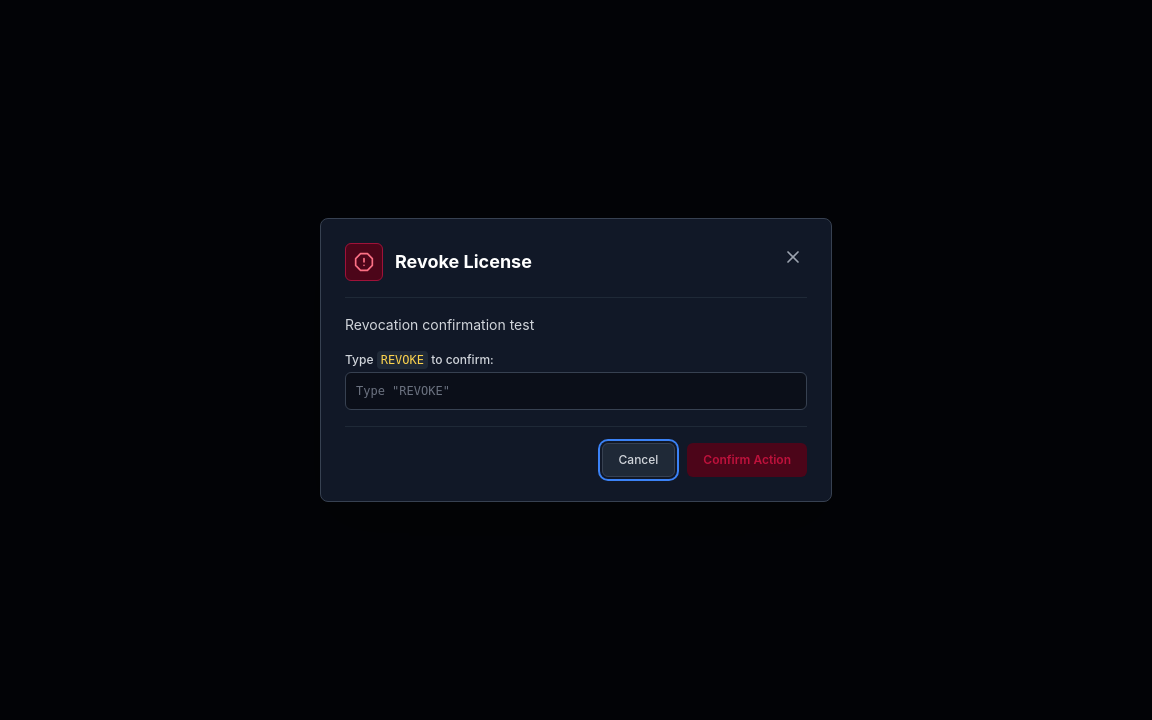
Test case: ConfirmationDialog Security & Accessibility Primitive › 2. should enforce exact confirmation phrase match before enabling submit button
Expected: the button "Confirm Action" is disabled, left=687, top=443, right=807, bottom=477
Type "wrong" into the field with placeholder "Type \"REVOKE\"" at (576, 391), box left=345, top=372, right=807, bottom=410
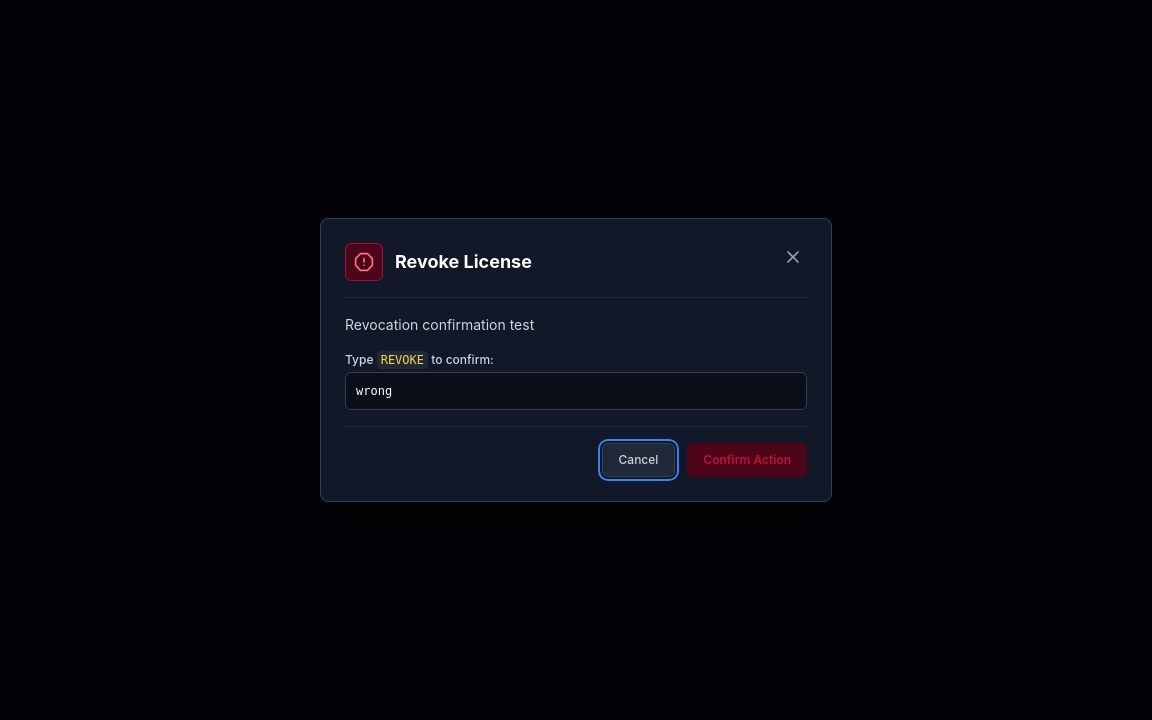
Expected: the button "Confirm Action" is disabled, left=687, top=443, right=807, bottom=477
Replace the text in the field with placeholder "Type \"REVOKE\"" with "REVOKE" at (576, 391), box left=345, top=372, right=807, bottom=410
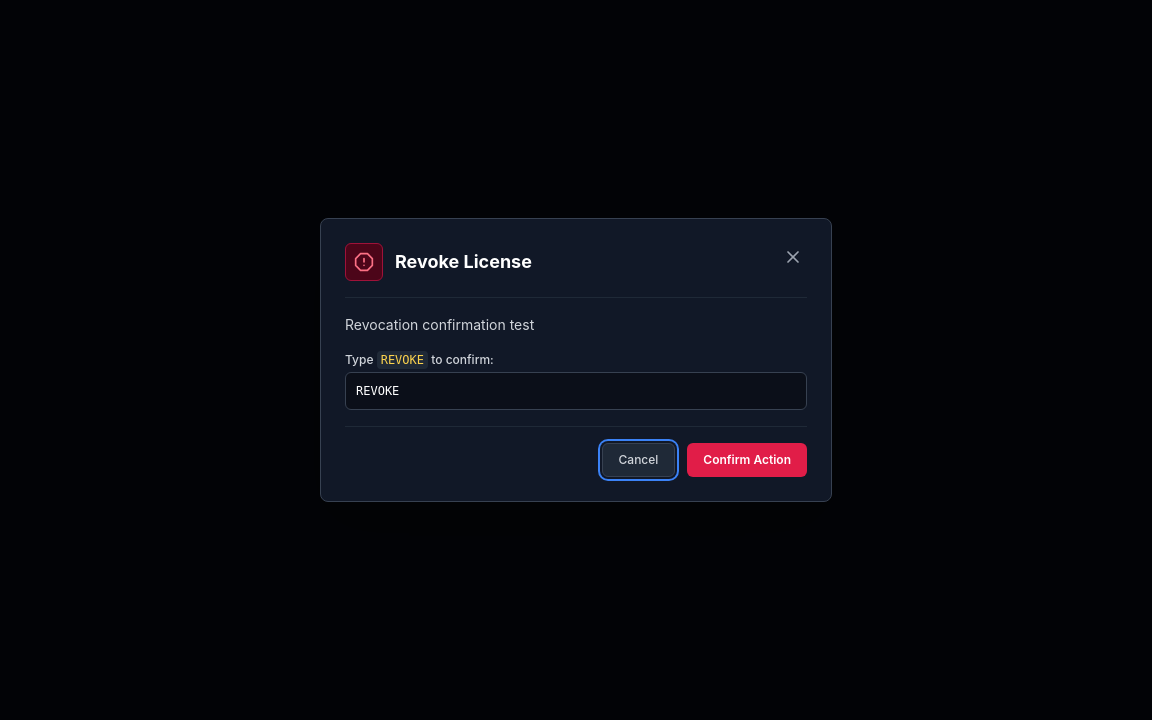
Expected: the button "Confirm Action" is enabled, left=687, top=443, right=807, bottom=477
